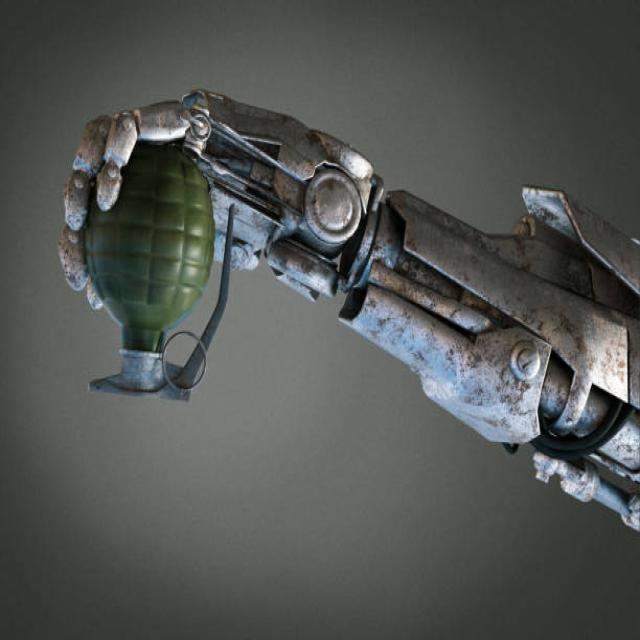grenade: (77, 137, 240, 411)
